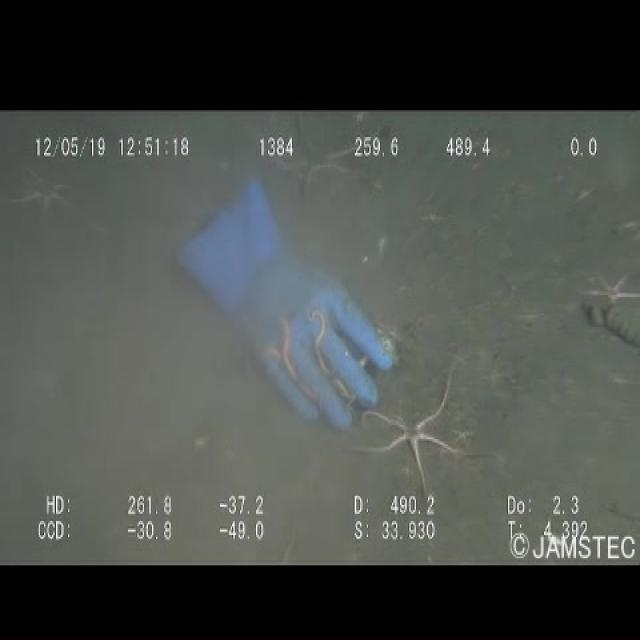plastic: (175, 171, 392, 448)
